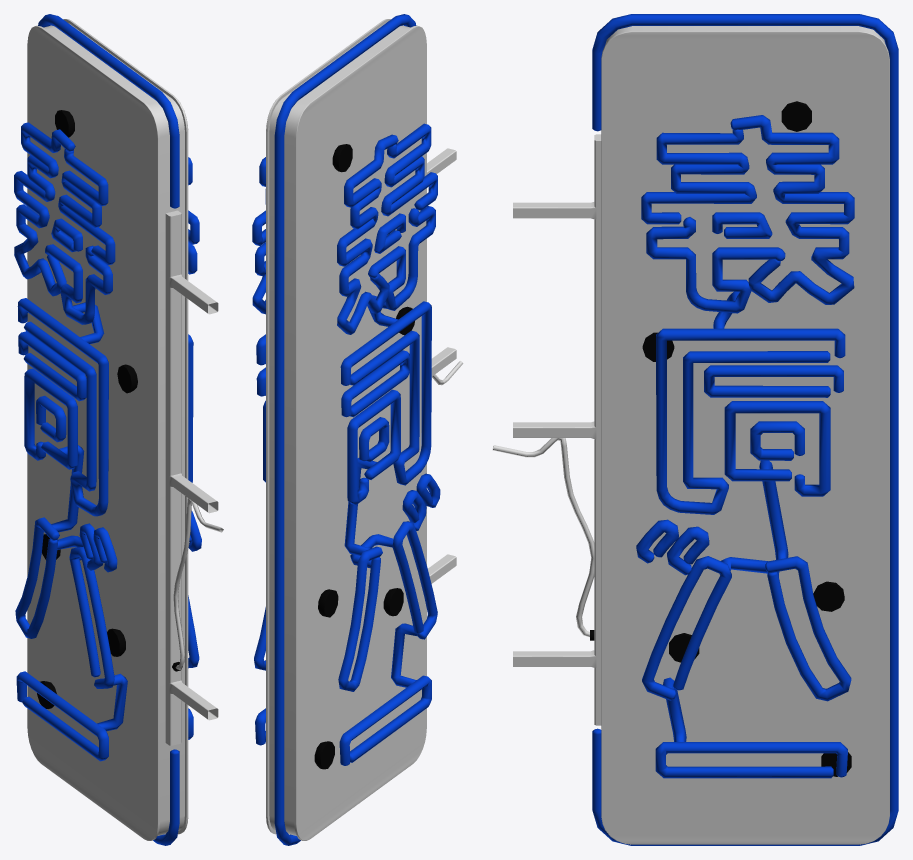
The model's file is neonsign.fbx.
3 views of the same model, side by side, from view 1: azimuth 30°, elevation 25°; view 2: azimuth 150°, elevation 25°; view 3: azimuth 270°, elevation 25° (orthographic). The views are drawn at different scales.
Visible parts, largest first — view 1: sign_neon_small_vert (×2); view 2: sign_neon_small_vert (×2); view 3: sign_neon_small_vert (×2).
Part boxes in pixels (x1,y1,x2,y2): sign_neon_small_vert (×2): (14,14,223,845); sign_neon_small_vert (×2): (252,14,463,845); sign_neon_small_vert (×2): (492,14,898,845).
Size of the model in its own units: 13.69 by 103 by 45.62.
